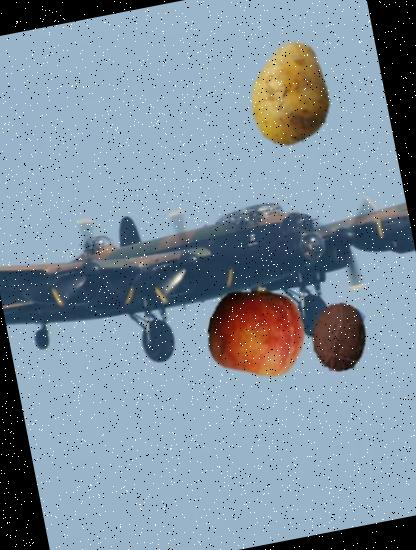Cocos: (299, 296, 381, 378)
Peach: (200, 273, 314, 387)
Potato: (228, 30, 354, 158)
